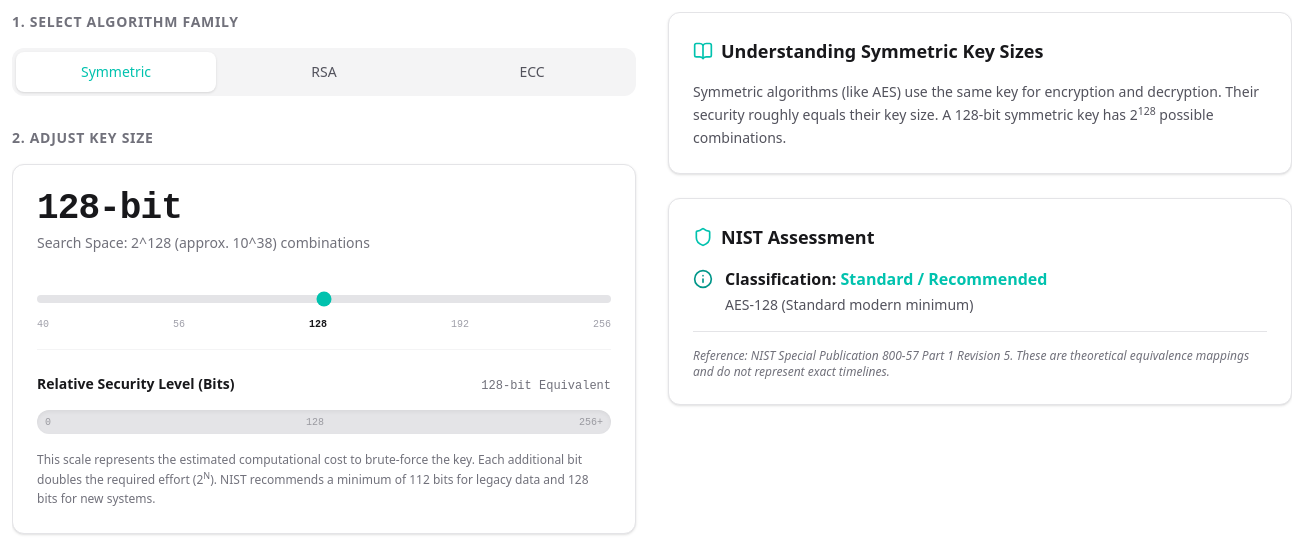
Test: KeySizeEstimator Component › handles slider updates
Change to index 4 (Symmetric 256-bit)
Set the slider to "4": (603, 299) x1=37 y1=295 x2=611 y2=303
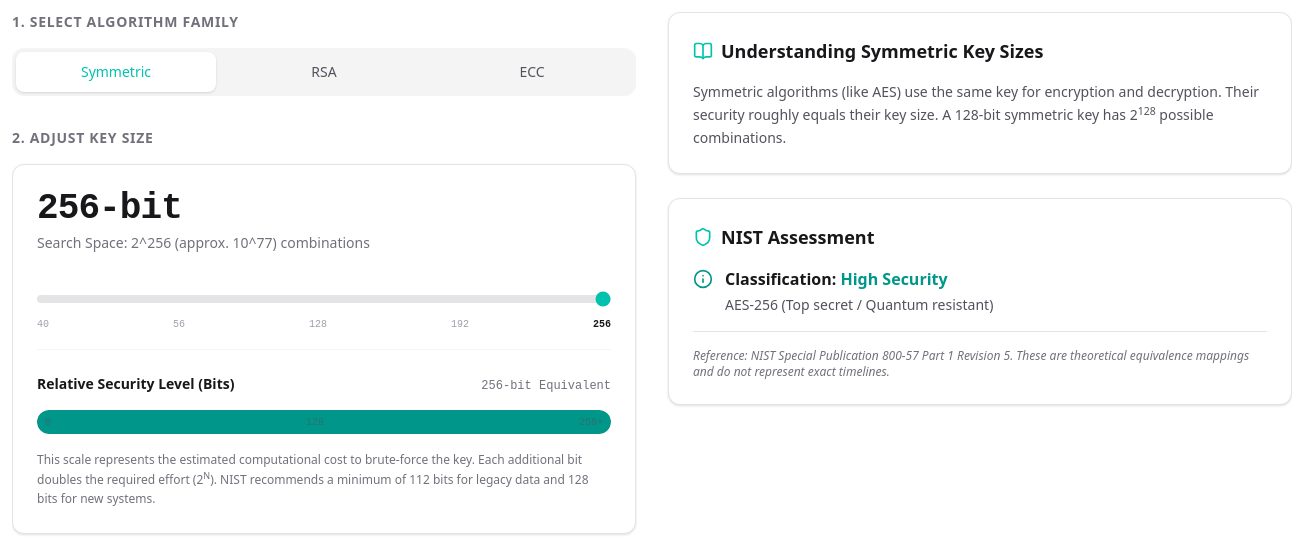
Now the text "256-bit" is shown, box x1=37 y1=188 x2=182 y2=229
Now the text "AES-256 (Top secret / Quantum resistant)" is shown, box x1=725 y1=295 x2=993 y2=315
